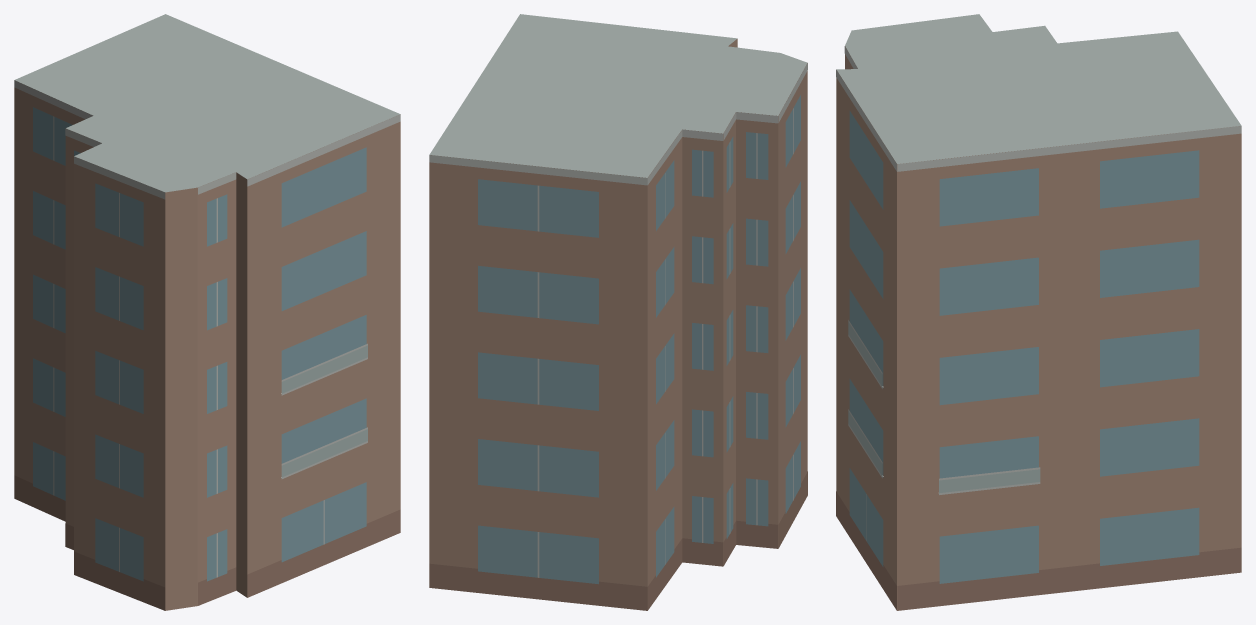
The model's file is survey-upis-32964383.glb.
The picture shows the model from 3 angles, left to right: view 1: azimuth 30°, elevation 25°; view 2: azimuth 150°, elevation 25°; view 3: azimuth 270°, elevation 25°; orthographic projection. The views are drawn at different scales.
Visible parts, largest first — view 1: survey-upis-32964383.tmp; view 2: survey-upis-32964383.tmp; view 3: survey-upis-32964383.tmp.
Part boxes in pixels (left/top/right/bottom): survey-upis-32964383.tmp: left=14, top=14, right=400, bottom=610; survey-upis-32964383.tmp: left=429, top=14, right=807, bottom=610; survey-upis-32964383.tmp: left=836, top=14, right=1241, bottom=610.
Size of the model in its own units: 10.1 by 14 by 11.52.
